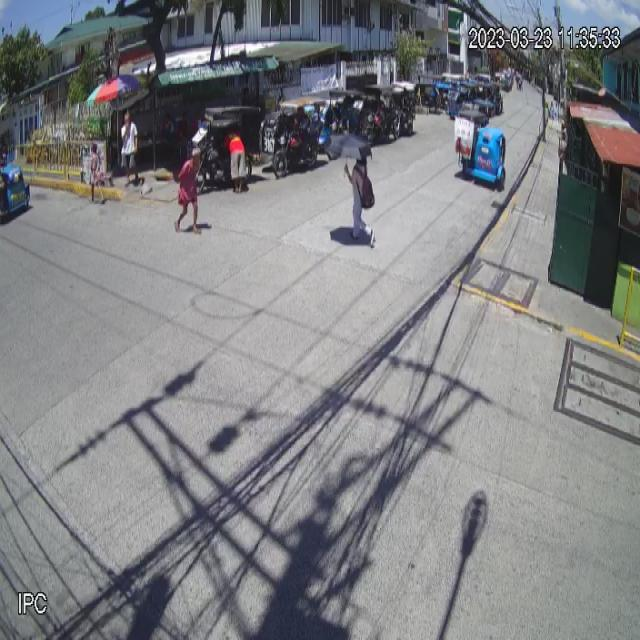Tricycle: (452, 110, 506, 192)
